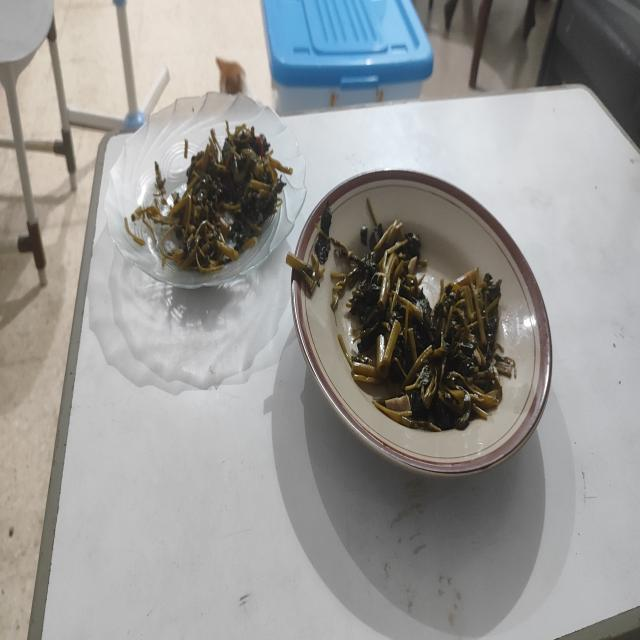tumis_kangkung: (310, 219, 510, 432), (132, 120, 292, 276)
